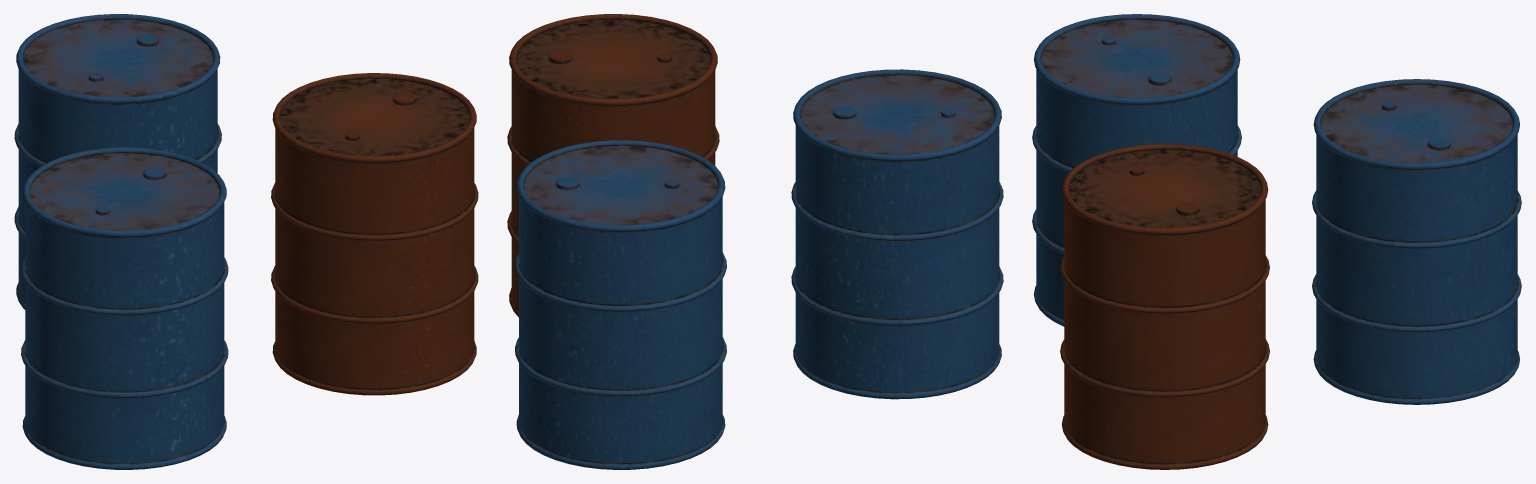
Rendered from barrels.glb.
3 renders of one model, left to right at view 1: azimuth 30°, elevation 25°; view 2: azimuth 150°, elevation 25°; view 3: azimuth 270°, elevation 25°, orthographic. The views are drawn at different scales.
Parts seen in each view (by area): view 1: barrels; view 2: barrels; view 3: barrels.
Part boxes in pixels (x1=…): barrels: x1=14, y1=14, x2=478, y2=469; barrels: x1=507, y1=14, x2=1003, y2=469; barrels: x1=1032, y1=14, x2=1521, y2=469.
Size of the model in its own units: 1.85 by 0.952 by 1.75.
Materials: 1 (1 with a texture image).
